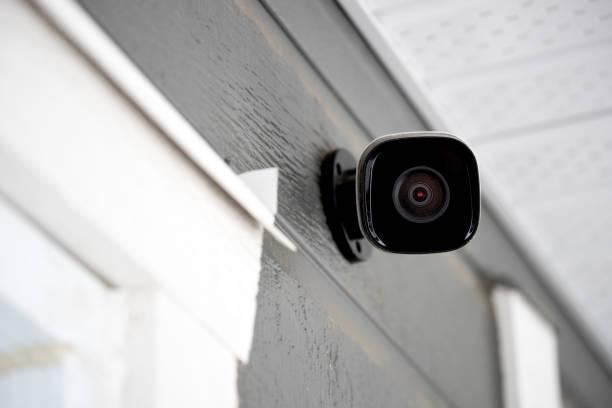camera: (331, 116, 498, 277)
